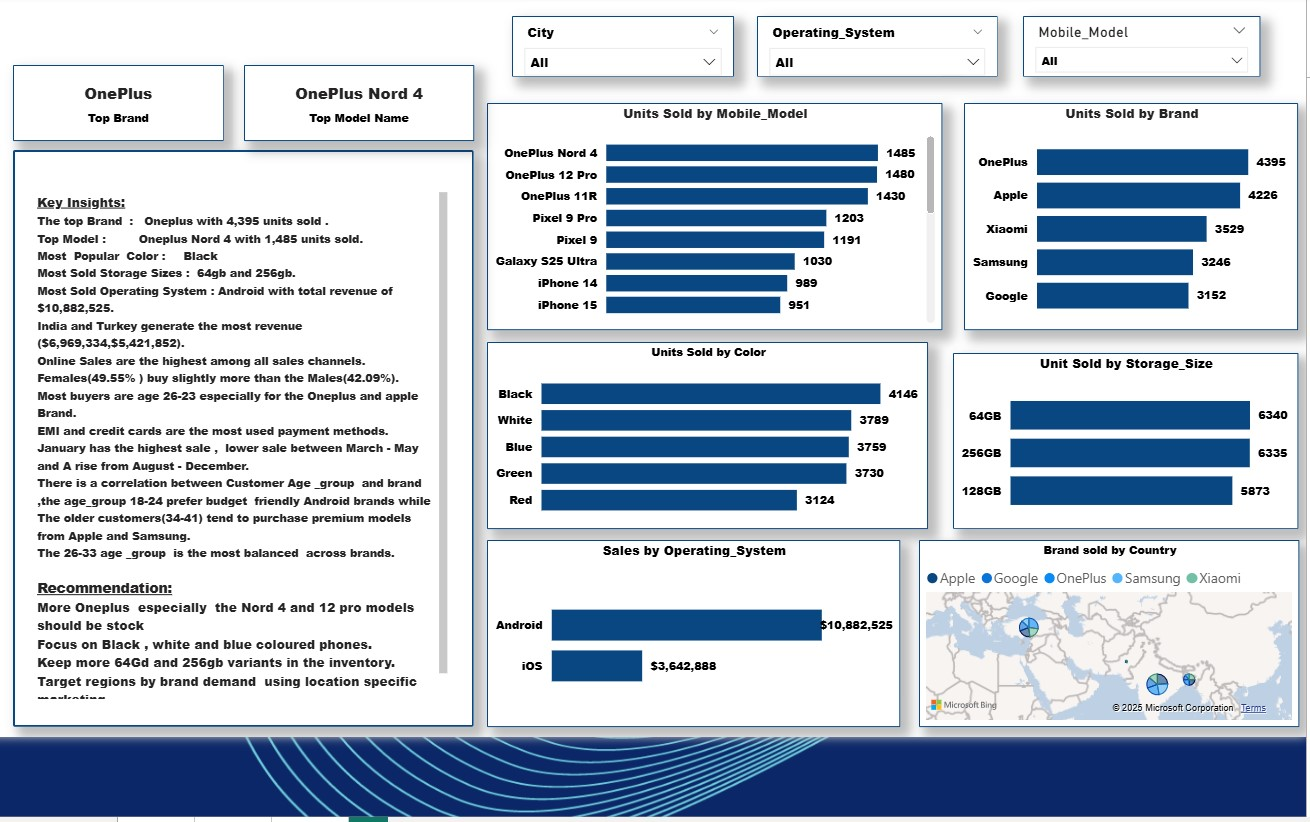

The dashboard page shown, as its layout file describes it:
{"tool":"powerbi","page":{"name":"Page 2","canvas":[1280,720],"ordinal":1},"visuals":[{"type":"card","fields":{"Values":["Measure.Top Brand"]},"box":[22.4,66.1,205.2,73.9],"z":0},{"type":"barChart","title":"Units Sold by Brand","fields":{"Category":["Sales_Data.Brand"],"Y":["Measure.Total_Units Sold"]},"box":[947.4,103.1,324.9,220.8],"z":1000},{"type":"barChart","title":"Units Sold by Mobile_Model","fields":{"Category":["Products.Mobile_Model"],"Y":["Measure.Total_Units Sold"]},"box":[483.4,103.1,442.6,220.8],"z":2000},{"type":"shape","box":[22.4,148.8,448.4,561.2],"z":3000},{"type":"card","fields":{"Values":["Measure.Top Model Name"]},"box":[247.1,66.1,223.7,73.9],"z":4000},{"type":"barChart","title":"Unit Sold by  Storage_Size","fields":{"Category":["Products.Storage_Size"],"Y":["Measure.Total_Units Sold"]},"box":[936.7,346.3,335.6,171.2],"z":5000},{"type":"barChart","title":"Units Sold  by Color","fields":{"Category":["Products.Color"],"Y":["Measure.Total_Units Sold"]},"box":[483.4,335.6,428.9,181.9],"z":6000},{"type":"barChart","title":"Sales by Operating_System","fields":{"Category":["Products.Operating_System"],"Y":["Measure.Total_Revenue"]},"box":[483.4,528.1,401.7,181.9],"z":7000},{"type":"map","title":"Brand sold by Country","fields":{"Size":["Measure.Total_Units Sold"],"Category":["Locations.Country"],"Series":["Products.Brand"]},"box":[903.6,528.1,369.6,181.9],"z":8000},{"type":"slicer","fields":{"Values":["Locations.City"]},"box":[507.7,18.5,215.9,59.3],"z":9000},{"type":"slicer","fields":{"Values":["Products.Operating_System"]},"box":[746,18.5,234.4,59.3],"z":10000},{"type":"slicer","fields":{"Values":["Products.Mobile_Model"]},"box":[1004.7,18.5,231.5,59.3],"z":11000},{"type":"textbox","box":[40.9,184.8,409.5,502.9],"z":11001}]}

Visuals, with their boxes on the page's 1280x720 design canvas (x1, y1, x2, y2). These are canvas units, not pixel positions in the 1310x822 screenshot, which may show the page scaled, cropped or inside an application window:
card - Measure.Top Brand: locate(22, 66, 228, 140)
"Units Sold by Brand" barChart: locate(947, 103, 1272, 324)
"Units Sold by Mobile_Model" barChart: locate(483, 103, 926, 324)
shape: locate(22, 149, 471, 710)
card - Measure.Top Model Name: locate(247, 66, 471, 140)
"Unit Sold by  Storage_Size" barChart: locate(937, 346, 1272, 518)
"Units Sold  by Color" barChart: locate(483, 336, 912, 518)
"Sales by Operating_System" barChart: locate(483, 528, 885, 710)
"Brand sold by Country" map: locate(904, 528, 1273, 710)
slicer - Locations.City: locate(508, 18, 724, 78)
slicer - Products.Operating_System: locate(746, 18, 980, 78)
slicer - Products.Mobile_Model: locate(1005, 18, 1236, 78)
textbox: locate(41, 185, 450, 688)
